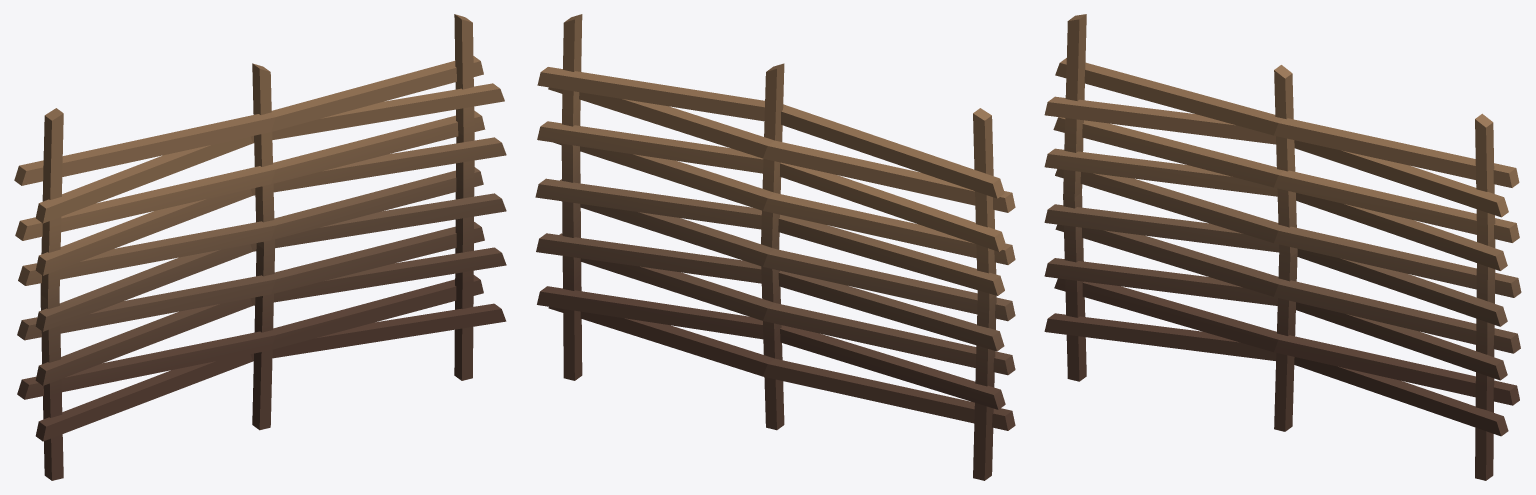
The model's file is Fence Wood V3 1.glb.
3 renders of one model, left to right at view 1: azimuth 30°, elevation 25°; view 2: azimuth 150°, elevation 25°; view 3: azimuth 330°, elevation 25°, orthographic.
Visible parts, largest first — view 1: Fence Wood V3 1; view 2: Fence Wood V3 1; view 3: Fence Wood V3 1.
Boxes of the visible parts, x1=… form: Fence Wood V3 1: x1=14, y1=14, x2=506, y2=480; Fence Wood V3 1: x1=535, y1=14, x2=1015, y2=480; Fence Wood V3 1: x1=1044, y1=14, x2=1521, y2=480.
Size of what is drawn, in the model's own units: 2.04 by 1.52 by 0.2063.
Materials: 1 (1 with a texture image).
